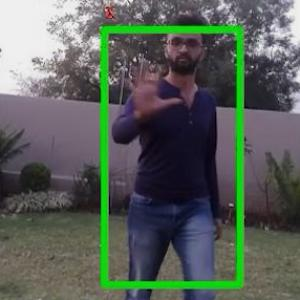follow_hand: (122, 54, 184, 120)
